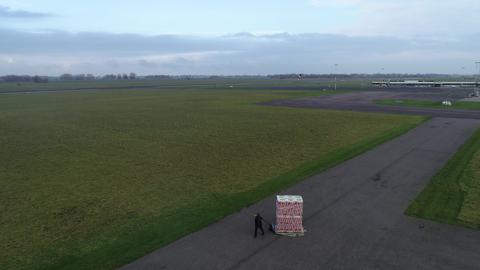RockwoolPallet: (273, 195, 305, 231)
